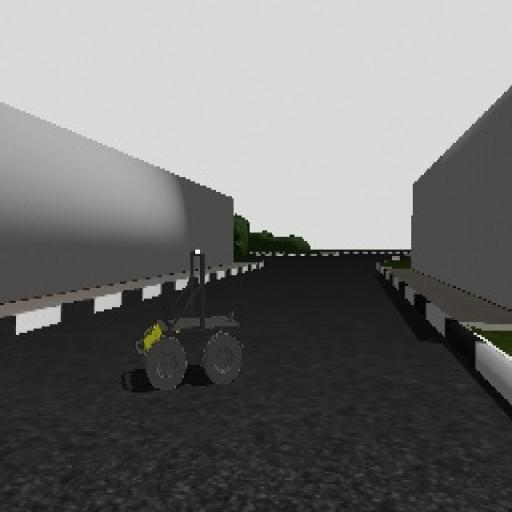huskya200: (115, 235, 256, 425)
